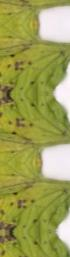Tomato Septoria leaf spot: (0, 93, 70, 166), (62, 92, 70, 135)
